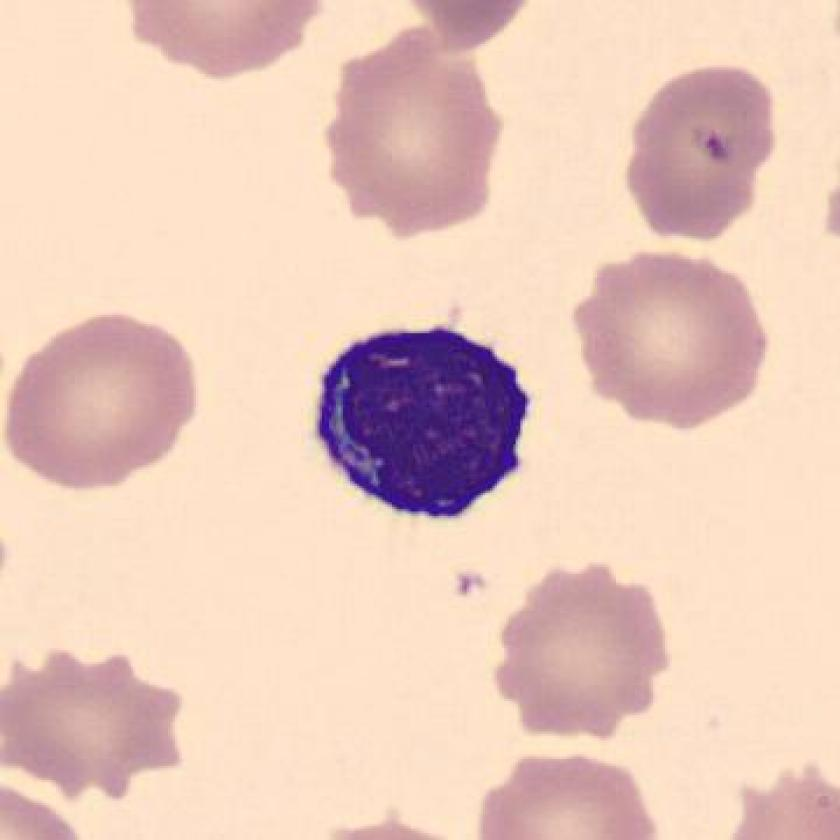lymphocyte: (302, 302, 547, 533)
